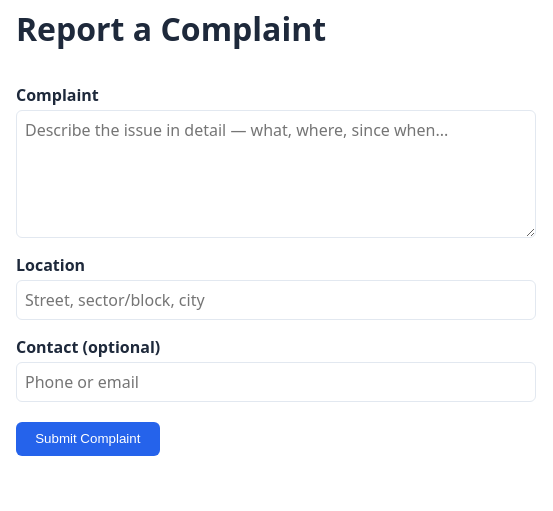
Scenario: SubmitPage › shows the server's Retry-After wait on a 429 response
The width and height of the screenshot is (553, 511).
Type "Burst water main flooding Street 12 since fajr, water entering floors." into the text box labelled "Complaint" at (276, 174), box [16,110,536,238]
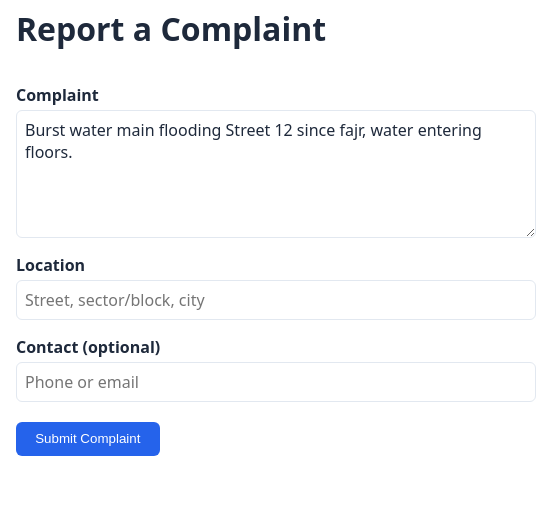
Type "Street 12" into the field labelled "Location" at (276, 300), box [16,280,536,320]
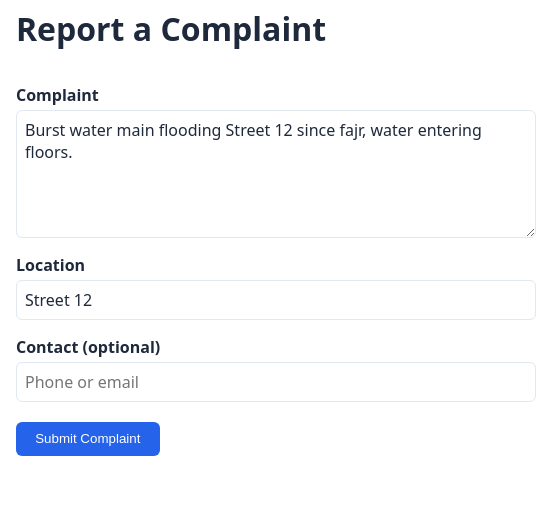
Click the button "Submit Complaint" at (88, 439), box [16,422,160,456]
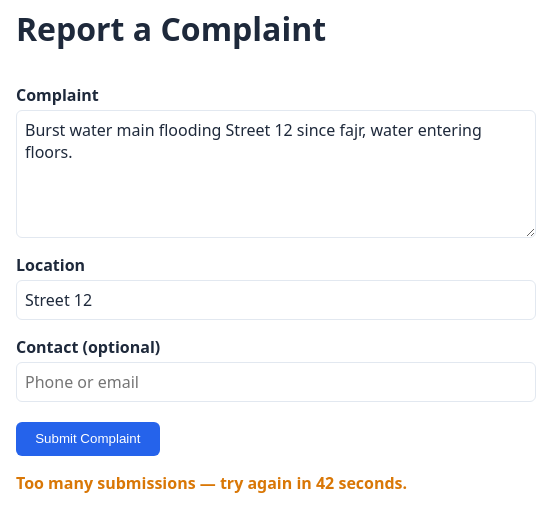
expect the message shows "42 seconds": met, box [16,472,407,494]
